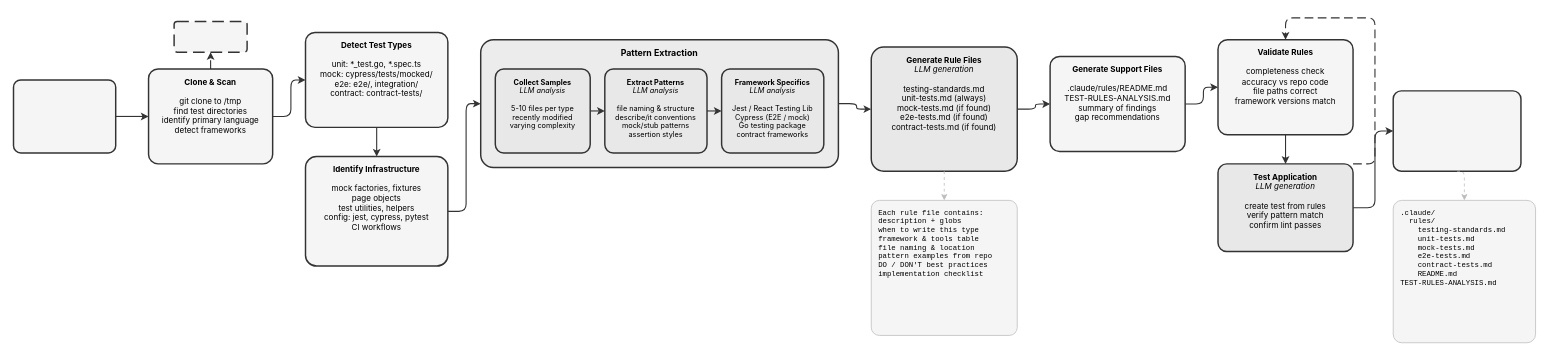
The diagram is 1548 pixels wide and 356 high, and some of its shapes have lost their labels. Each missing label, with the centre of its shape:
/test-rules-generator [repository-url] optional: test type focus: the point at 64,116
Git: the point at 210,36
Output .claude/rules/ directory TEST-RULES-ANALYSIS.md rules ready for agent use: the point at 1456,131
